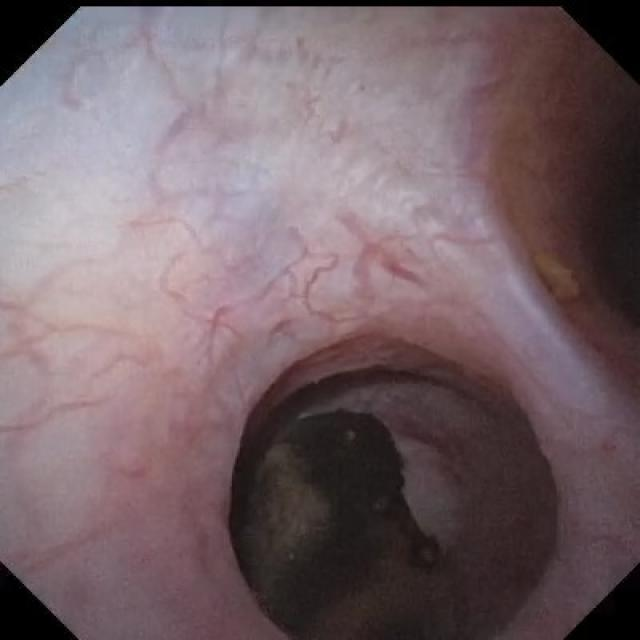stone-new: (238, 410, 442, 638)
